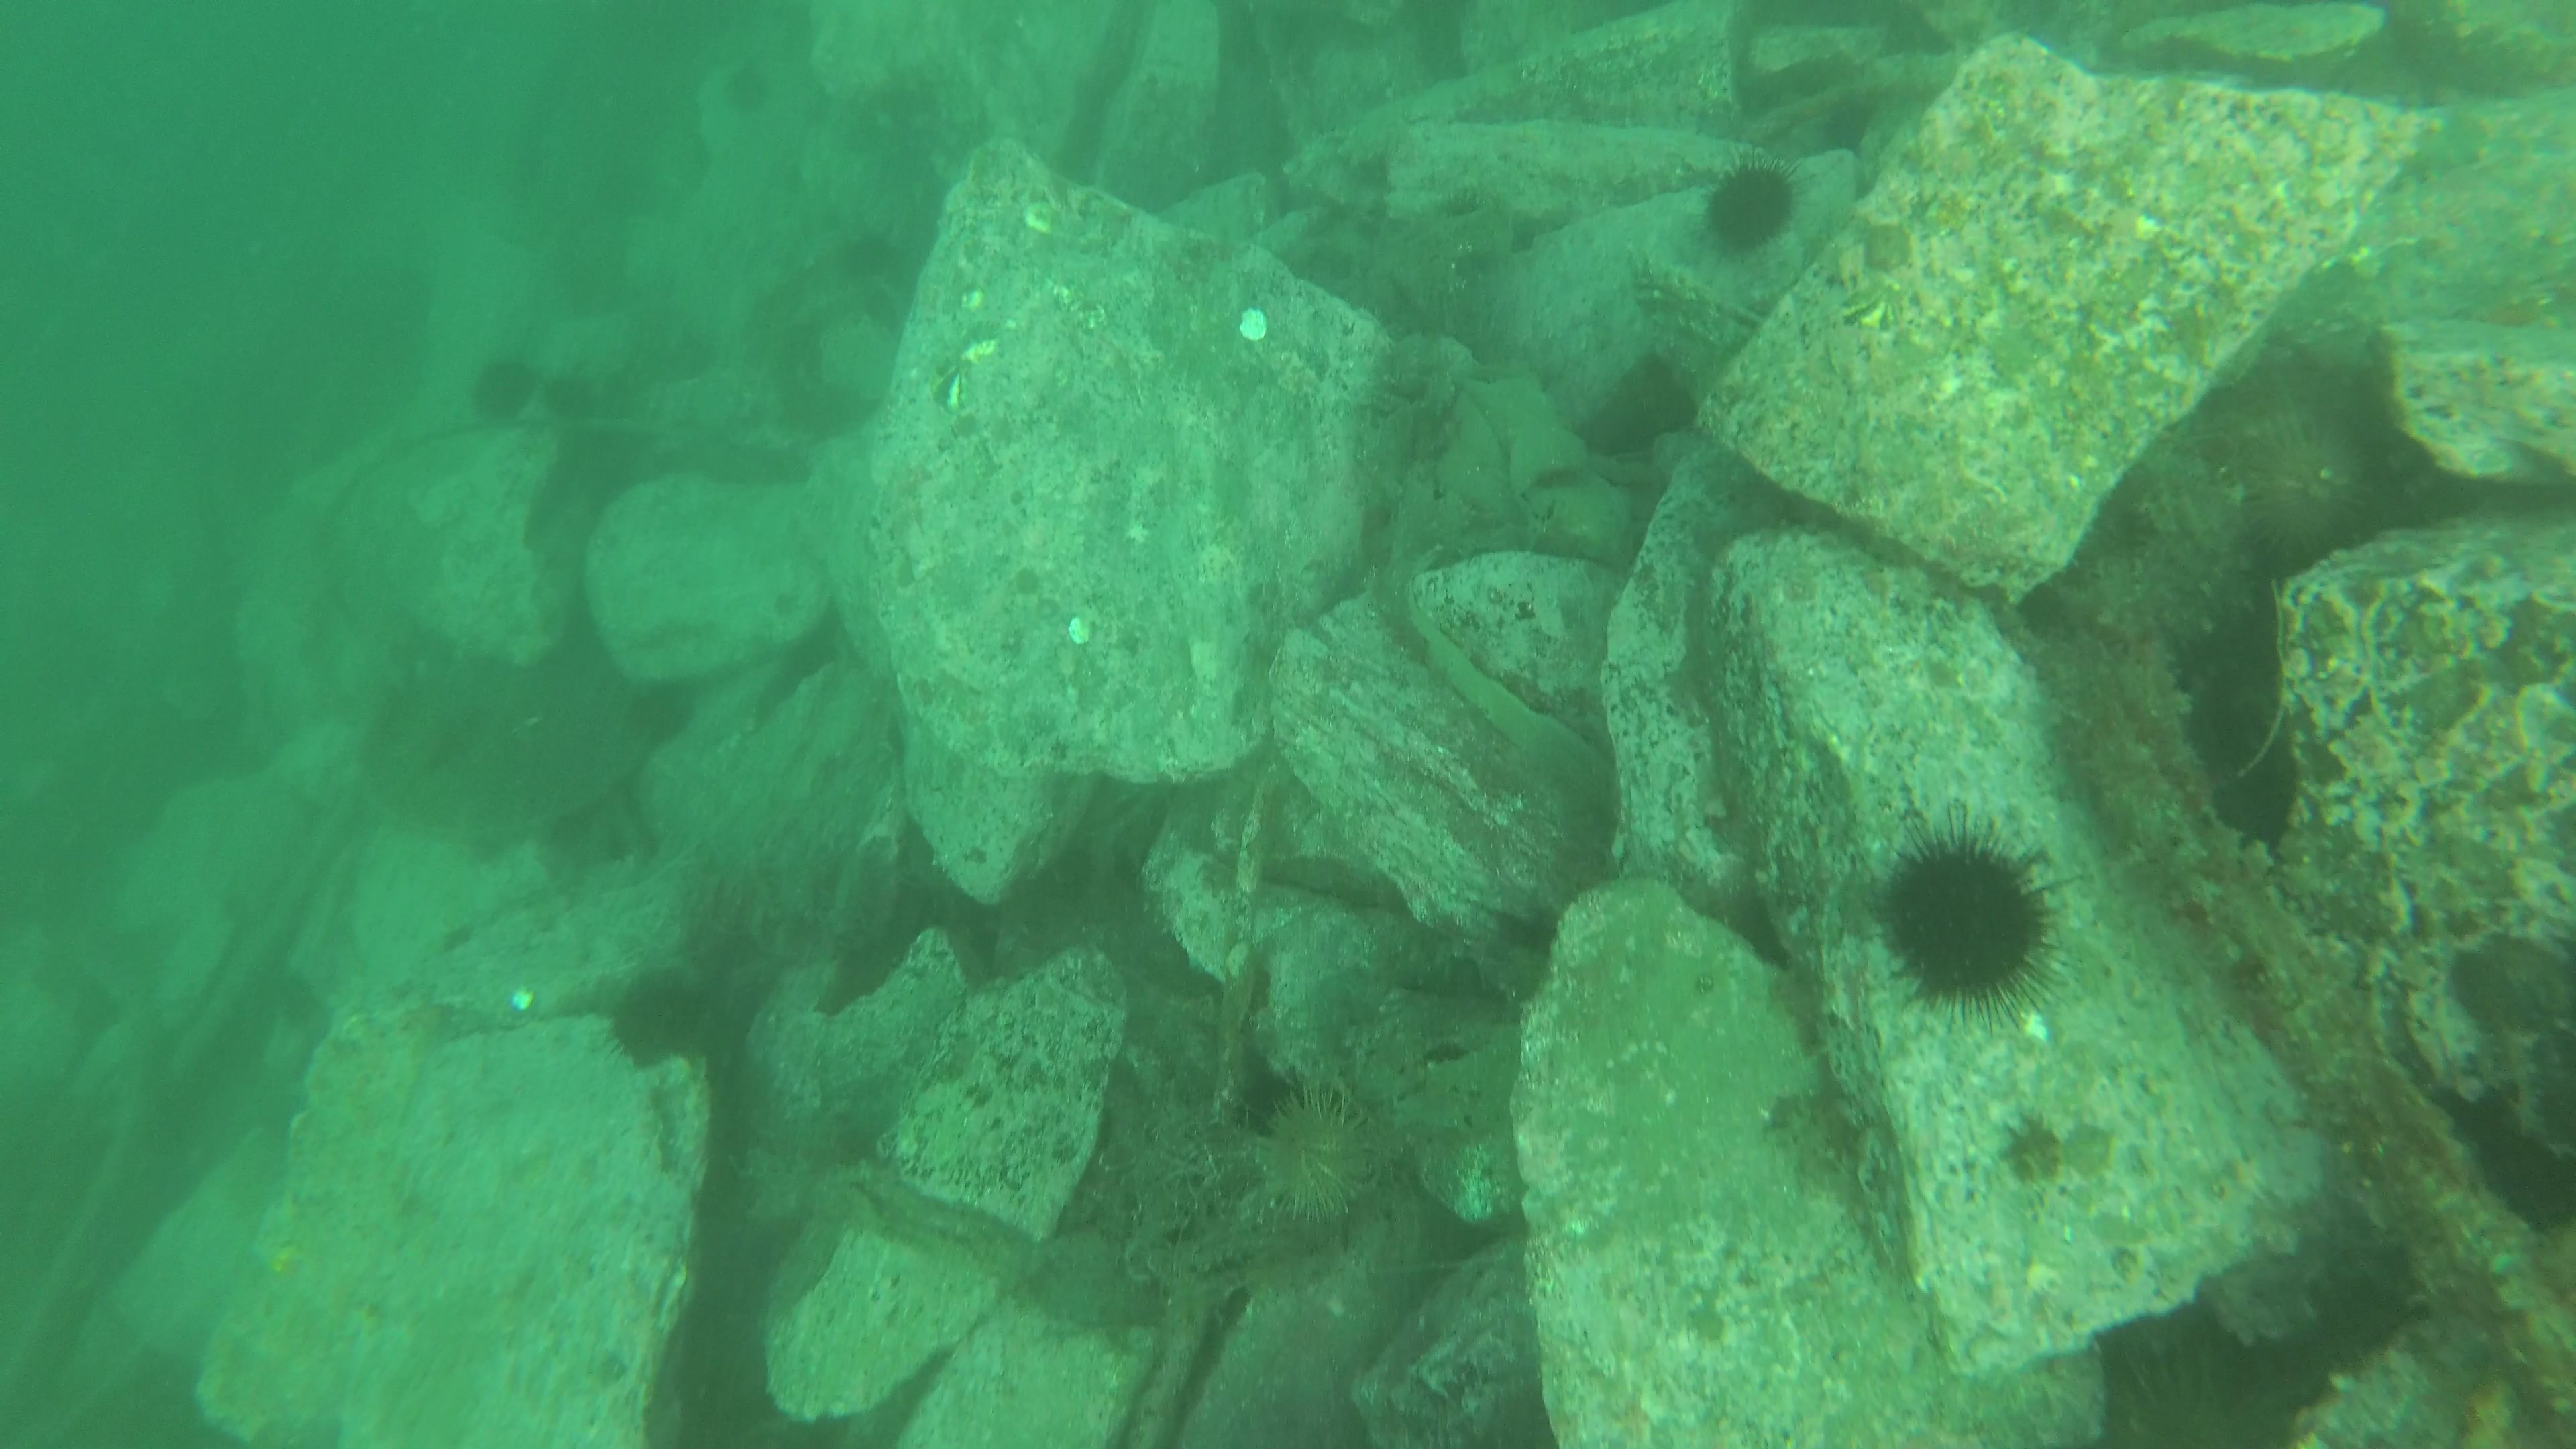echinus: (1870, 803, 2079, 1044), (2210, 377, 2387, 564), (1240, 1074, 1403, 1237), (1691, 145, 1813, 260)
